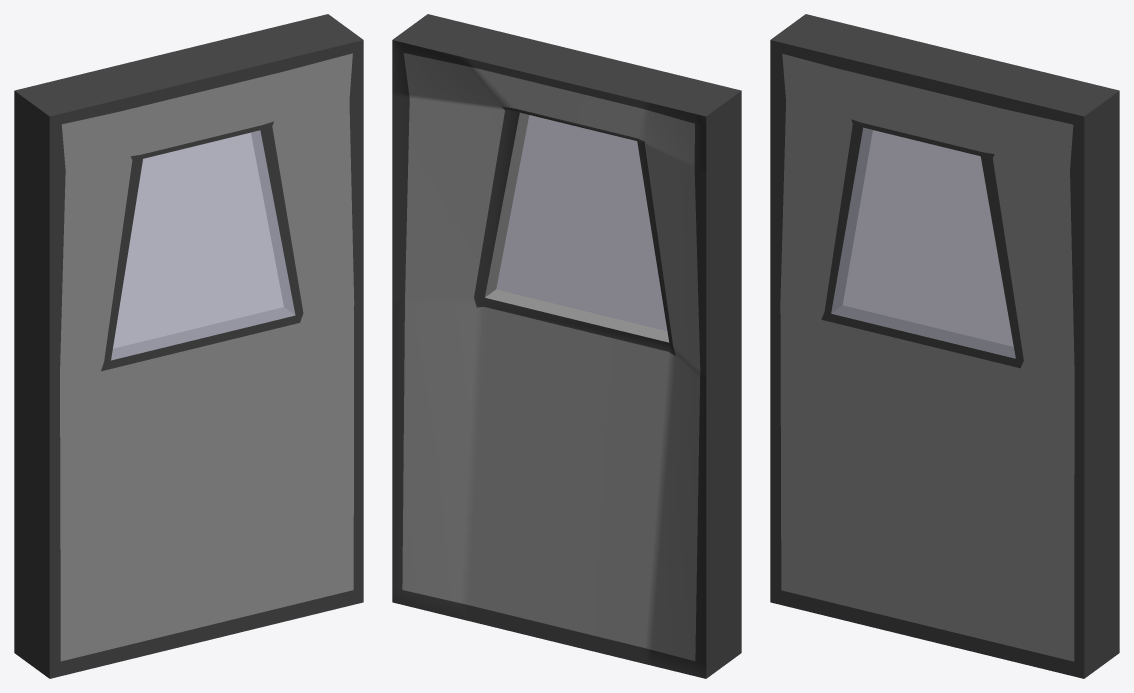
Rendered from sm_door.fbx.
3 renders of one model, left to right at view 1: azimuth 30°, elevation 25°; view 2: azimuth 150°, elevation 25°; view 3: azimuth 330°, elevation 25°, orthographic.
Visible parts, largest first — view 1: pCube1; view 2: pCube1; view 3: pCube1.
Boxes of the visible parts, box(x1,y1,x2,y2) form: pCube1: box(14, 14, 363, 678); pCube1: box(392, 14, 741, 678); pCube1: box(770, 14, 1119, 678).
Size of the model in its own units: 157 by 268 by 30.83.
